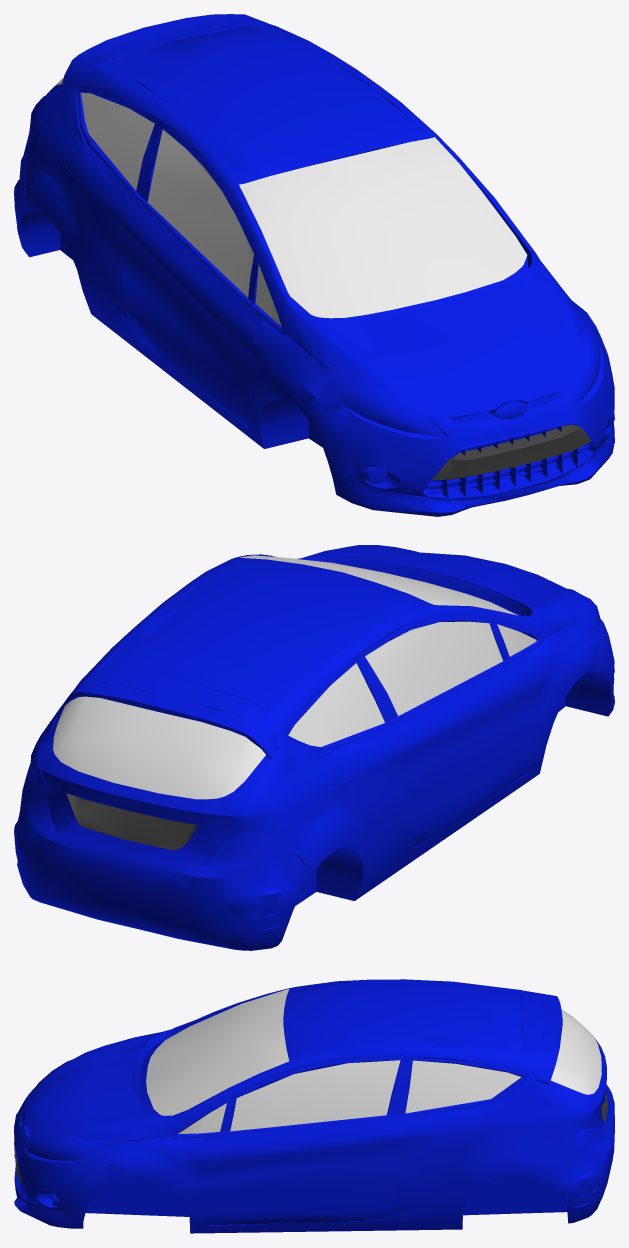
File: FordFiestaBody.fbx
3 renders of one model, top to bottom at view 1: azimuth 30°, elevation 25°; view 2: azimuth 150°, elevation 25°; view 3: azimuth 270°, elevation 25°, orthographic. The views are drawn at different scales.
Parts seen in each view (by area): view 1: Fiesta DEF; view 2: Fiesta DEF; view 3: Fiesta DEF.
Part boxes in pixels (box(x1,y1,x2,y2)): Fiesta DEF: box(14, 14, 614, 516); Fiesta DEF: box(14, 545, 614, 950); Fiesta DEF: box(14, 979, 614, 1233).
Bounding box in the file's own units: 172 × 129 × 399.
